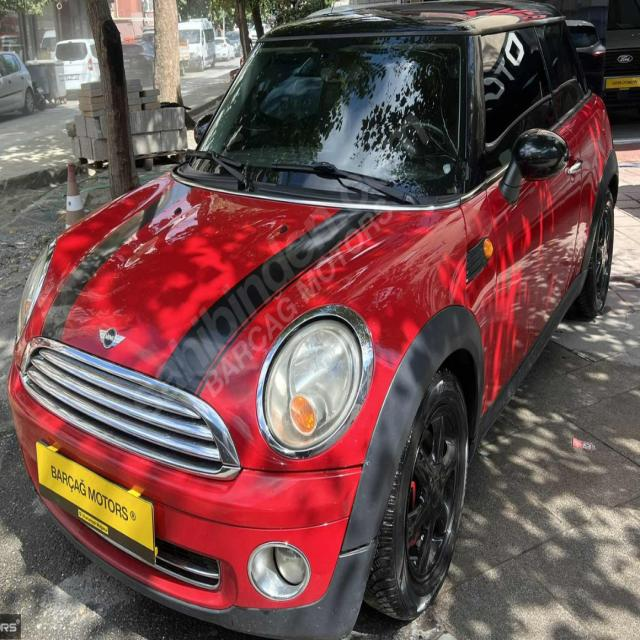mini: (94, 323, 128, 351)
